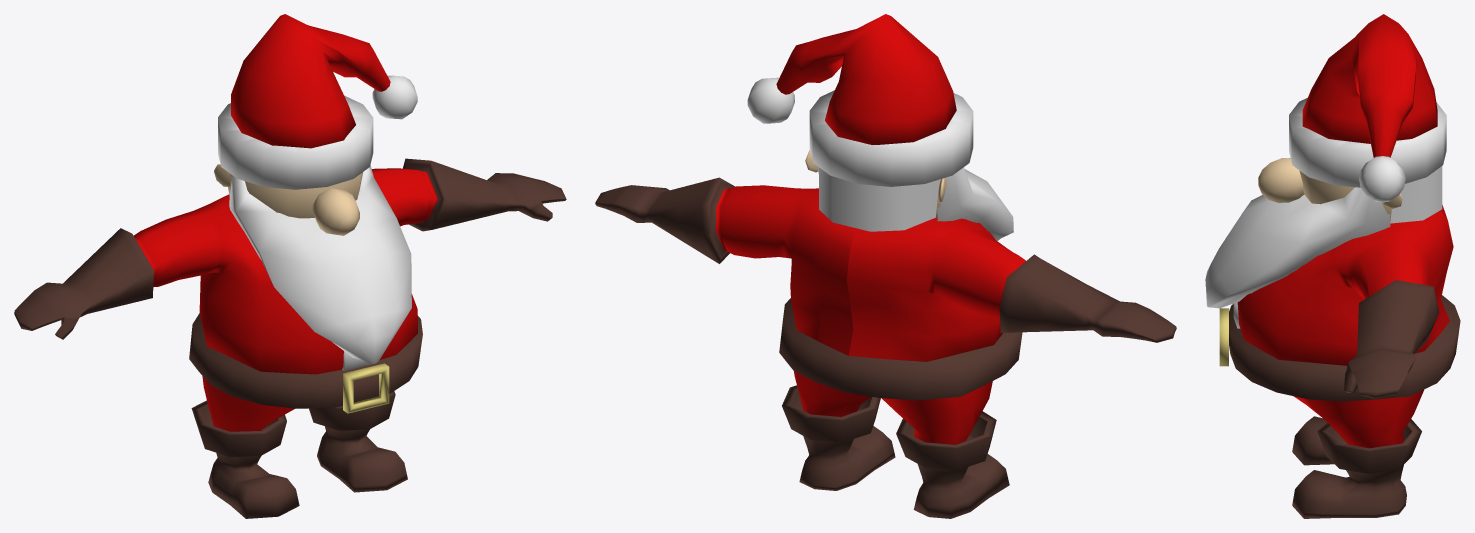
Rendered from Santa_Model.fbx.
3 renders of one model, left to right at view 1: azimuth 30°, elevation 25°; view 2: azimuth 150°, elevation 25°; view 3: azimuth 270°, elevation 25°, orthographic. The views are drawn at different scales.
Parts seen in each view (by area): view 1: pSphere3, pCube1, pCylinder1, pPipe2, pPipe1, pSphere6, pSphere5, pCylinder2, pSphere1, pSphere2, pSphere7, pCube3; view 2: pSphere3, pCylinder1, pPipe2, pPipe1, pSphere6, pSphere5, pCylinder2, pCylinder3, pCube1, pSphere7; view 3: pSphere3, pCylinder1, pCube1, pSphere5, pPipe2, pPipe1, pCylinder2, pCylinder3, pSphere7, pSphere2, pSphere6, pSphere1 (+1 smaller).
Boxes of the visible parts, bbox=[...] form: pSphere3: bbox=[14, 158, 566, 374]; pCube1: bbox=[229, 165, 411, 363]; pCylinder1: bbox=[231, 14, 390, 148]; pPipe2: bbox=[189, 313, 422, 408]; pPipe1: bbox=[218, 95, 373, 189]; pSphere6: bbox=[191, 400, 299, 518]; pSphere5: bbox=[309, 391, 407, 492]; pCylinder2: bbox=[202, 376, 294, 431]; pSphere1: bbox=[228, 172, 362, 218]; pSphere2: bbox=[312, 188, 359, 235]; pSphere7: bbox=[372, 75, 417, 119]; pCube3: bbox=[343, 363, 389, 413]; pSphere3: bbox=[595, 177, 1176, 361]; pCylinder1: bbox=[776, 14, 956, 144]; pPipe2: bbox=[779, 298, 1022, 400]; pPipe1: bbox=[809, 90, 973, 186]; pSphere6: bbox=[896, 411, 1009, 518]; pSphere5: bbox=[782, 385, 895, 490]; pCylinder2: bbox=[794, 371, 992, 444]; pCylinder3: bbox=[817, 166, 939, 231]; pCube1: bbox=[937, 167, 1013, 240]; pSphere7: bbox=[747, 77, 794, 123]; pSphere3: bbox=[1237, 205, 1453, 398]; pCylinder1: bbox=[1302, 14, 1437, 157]; pCube1: bbox=[1205, 187, 1390, 308]; pSphere5: bbox=[1292, 419, 1421, 518]; pPipe2: bbox=[1229, 295, 1460, 401]; pPipe1: bbox=[1289, 98, 1446, 187]; pCylinder2: bbox=[1294, 389, 1424, 448]; pCylinder3: bbox=[1390, 166, 1442, 223]; pSphere7: bbox=[1359, 156, 1405, 202]; pSphere2: bbox=[1258, 158, 1304, 202]; pSphere6: bbox=[1292, 416, 1334, 465]; pSphere1: bbox=[1299, 170, 1391, 220].
Bounding box in the file's own units: 8.03 × 6.46 × 3.22.
